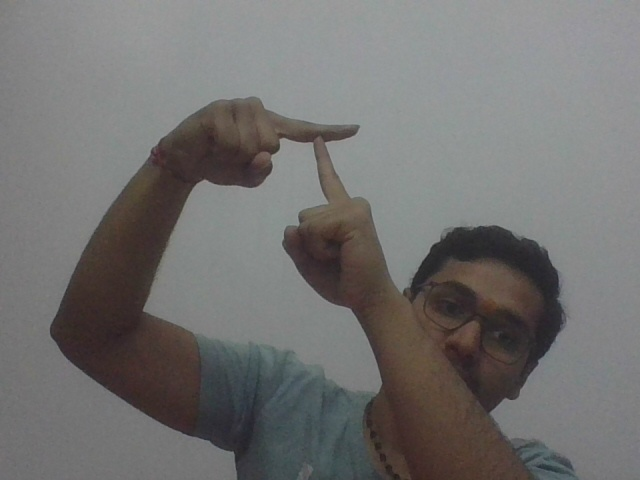T: (190, 90, 402, 285)
